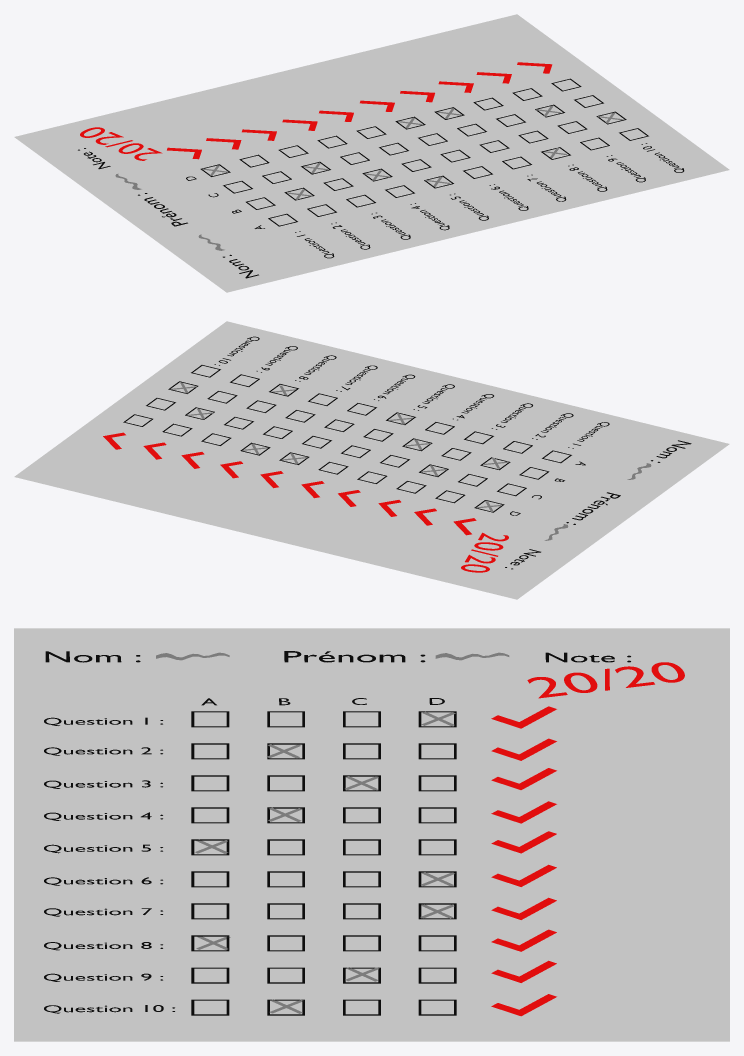
The model's file is copie_20.fbx.
The picture shows the model from 3 angles, top to bottom: view 1: azimuth 30°, elevation 25°; view 2: azimuth 150°, elevation 25°; view 3: azimuth 270°, elevation 25°; orthographic projection. The views are drawn at different scales.
Visible parts, largest first — view 1: Plane.027, Plane.030, Text.015; view 2: Plane.027, Plane.030, Text.015; view 3: Plane.027, Plane.030, Text.015.
Part boxes in pixels (x1,y1,x2,y2): Plane.027: [14, 14, 729, 292]; Plane.030: [200, 78, 648, 226]; Text.015: [80, 127, 162, 160]; Plane.027: [14, 321, 729, 599]; Plane.030: [123, 365, 571, 512]; Text.015: [461, 532, 508, 572]; Plane.027: [14, 628, 729, 1041]; Plane.030: [191, 711, 456, 1015]; Text.015: [527, 662, 684, 698].
Size of the model in its own units: 43.8 by 0.2615 by 32.07.
